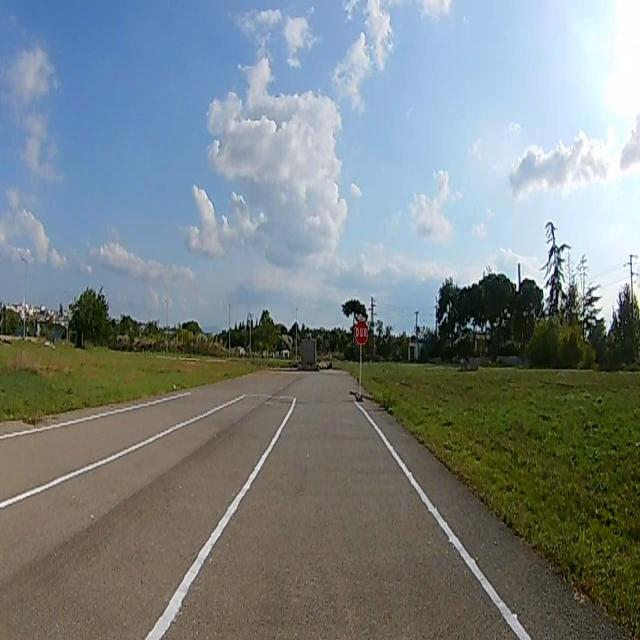dur: (354, 321, 368, 345)
